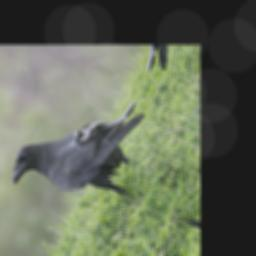Crow: (6, 66, 169, 229)
